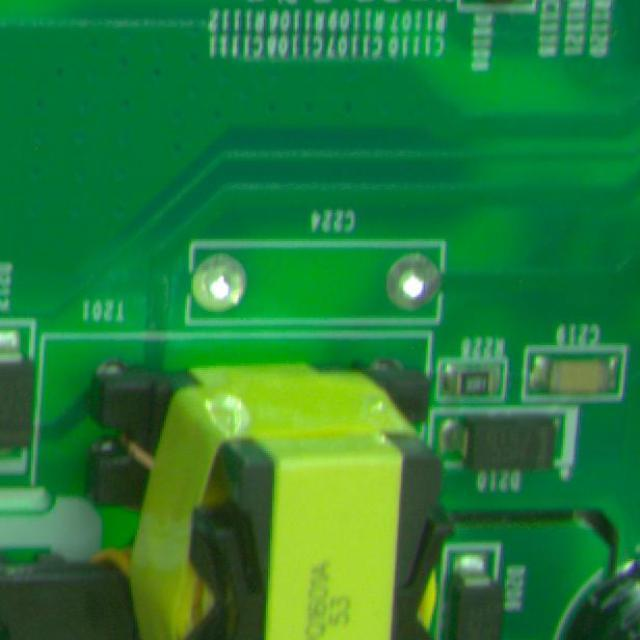Insufficient solder: (176, 239, 262, 313), (373, 242, 454, 315)
